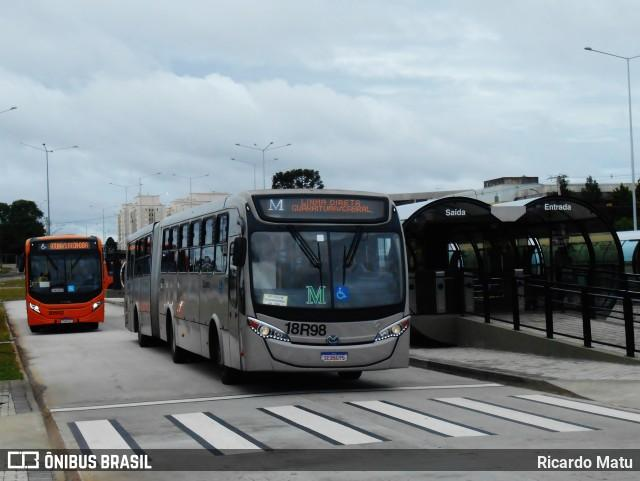GUARAITUBA CABRAL: (289, 204, 373, 214)
